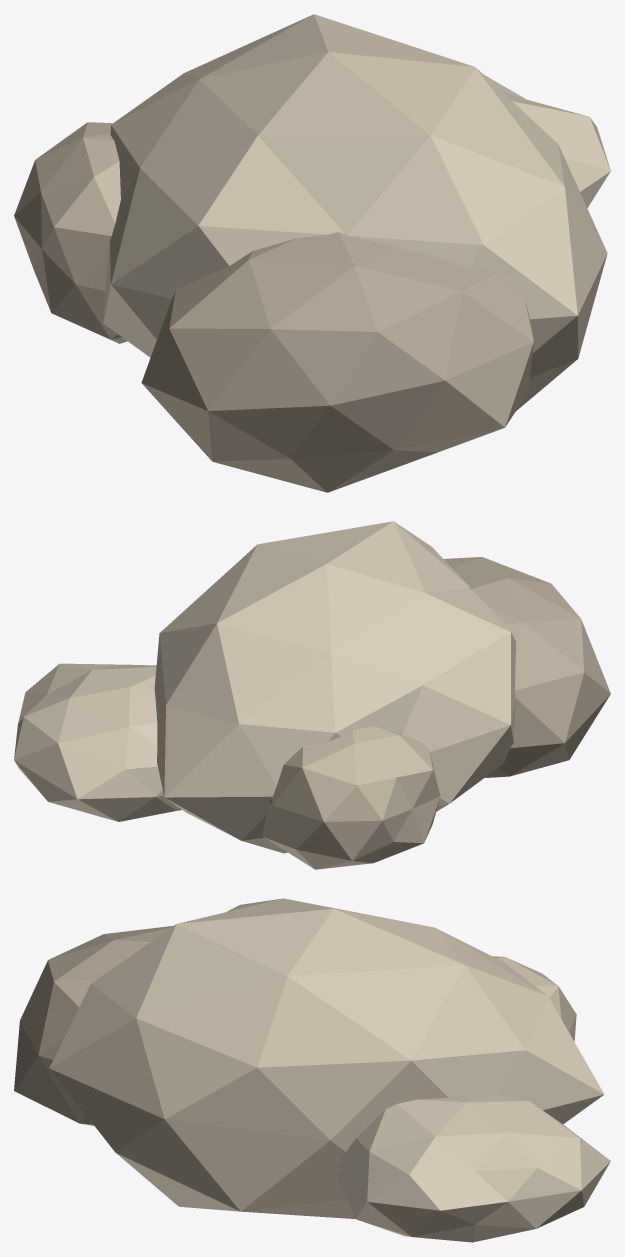
Rendered from campo_rock_cluster_7.glb.
3 views of the same model, one above another, from view 1: azimuth 30°, elevation 25°; view 2: azimuth 150°, elevation 25°; view 3: azimuth 270°, elevation 25° (orthographic). The views are drawn at different scales.
Parts seen in each view (by area): view 1: campo_rock_cluster_7.glb; view 2: campo_rock_cluster_7.glb; view 3: campo_rock_cluster_7.glb.
Boxes of the visible parts, <box> form: campo_rock_cluster_7.glb: <box>14,14,610,492</box>; campo_rock_cluster_7.glb: <box>14,521,610,869</box>; campo_rock_cluster_7.glb: <box>14,898,610,1242</box>.
Bounding box in the file's own units: 2.17 × 1.22 × 2.33.
